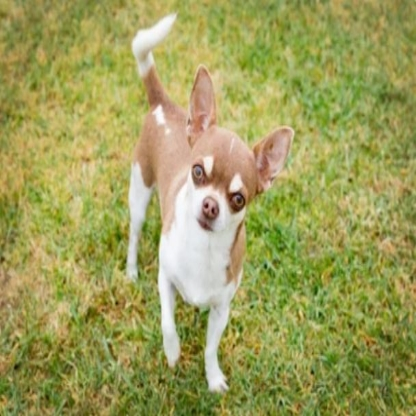chihuahua: (123, 12, 296, 390)
